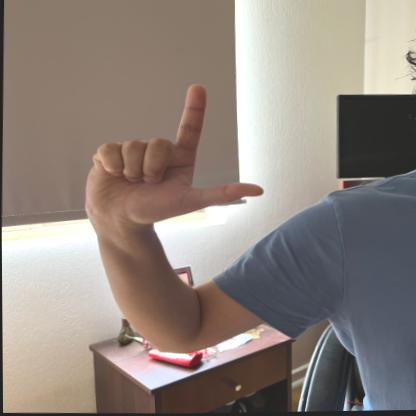L: (63, 79, 273, 228)
